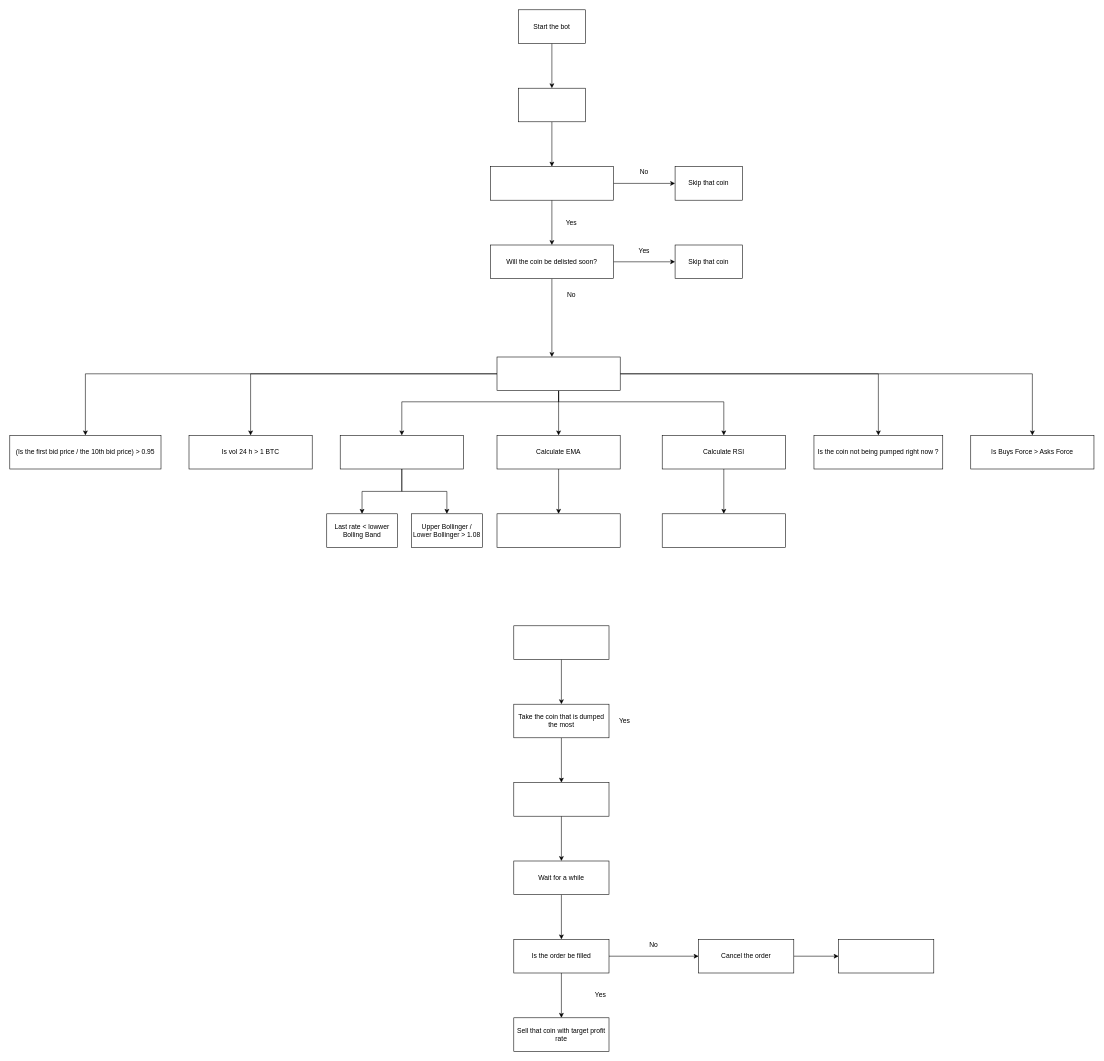
This 1104x1061 diagram has some shape labels left out. Each missing label, with the centre of its shape:
"Buy that coin" goes at point 561,799.
"Calculate Bollinger Bands" goes at point 401,452.
"Has the coin been listed on the exchange for at least 15 days?" goes at point 551,183.
"Last rate < EMA 150" goes at point 558,530.
"Last rate < RSI 30" goes at point 723,530.
"List of filtered coins" goes at point 558,373.
"Push to the waiting list" goes at point 561,642.
"Restart the bot" goes at point 886,956.
"Scan all pairs on markets" goes at point 551,105.
